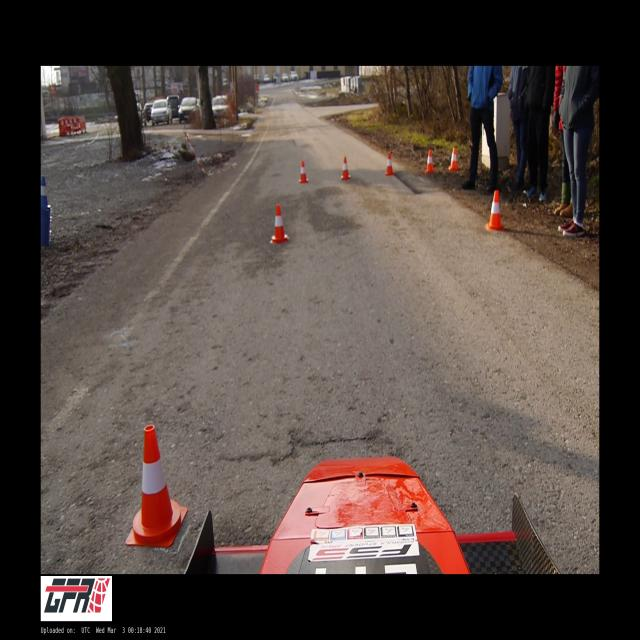orange_cone: (124, 425, 188, 547), (269, 203, 290, 244), (487, 190, 505, 231), (448, 148, 459, 172), (340, 156, 350, 180), (425, 149, 435, 173), (385, 152, 394, 176), (299, 160, 308, 183)
